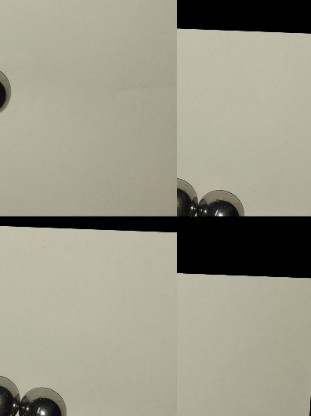ironball: (197, 187, 255, 215), (18, 383, 65, 414), (175, 173, 201, 218), (0, 376, 23, 414), (0, 70, 9, 117)
